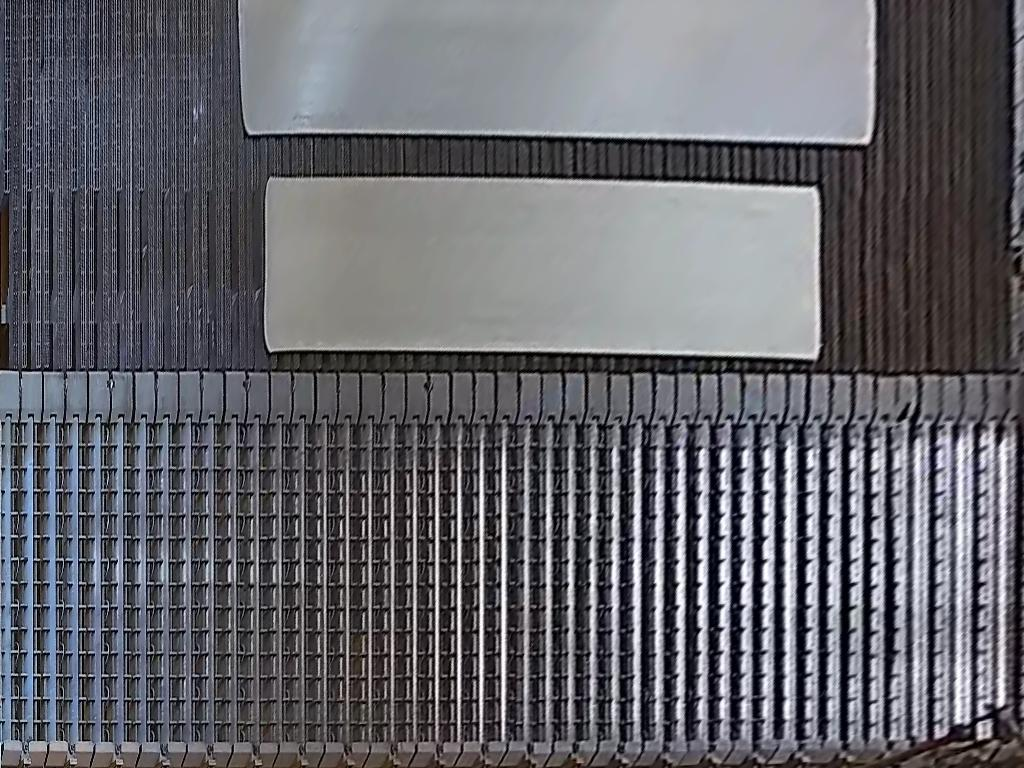steel: (264, 178, 822, 360), (239, 1, 873, 142)
